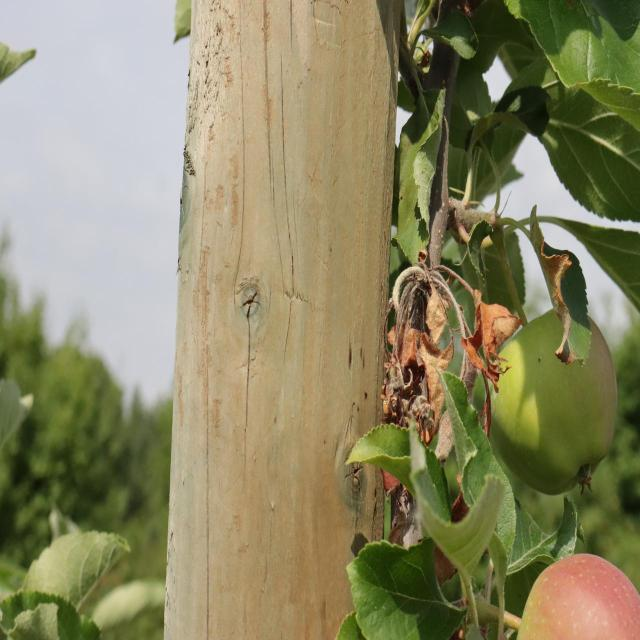-FireBlight-: (387, 273, 512, 427), (520, 219, 608, 362)
